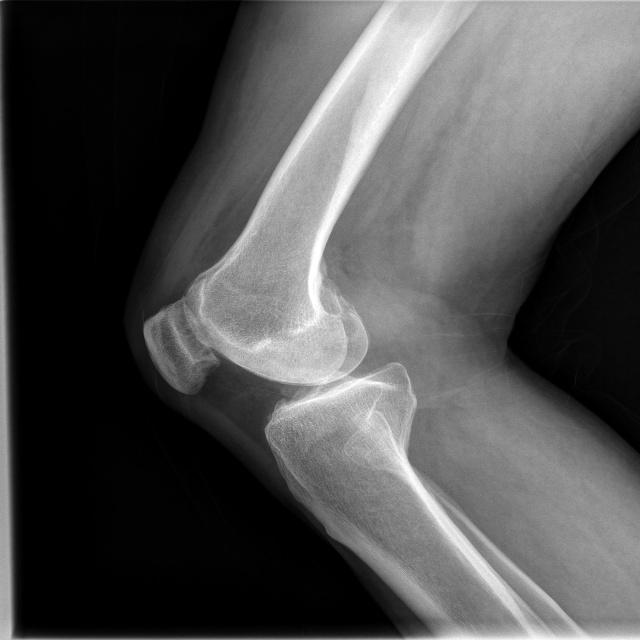Knee: (135, 261, 416, 457)
